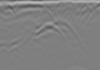hyperbola: (30, 20, 70, 57), (1, 2, 19, 21)
